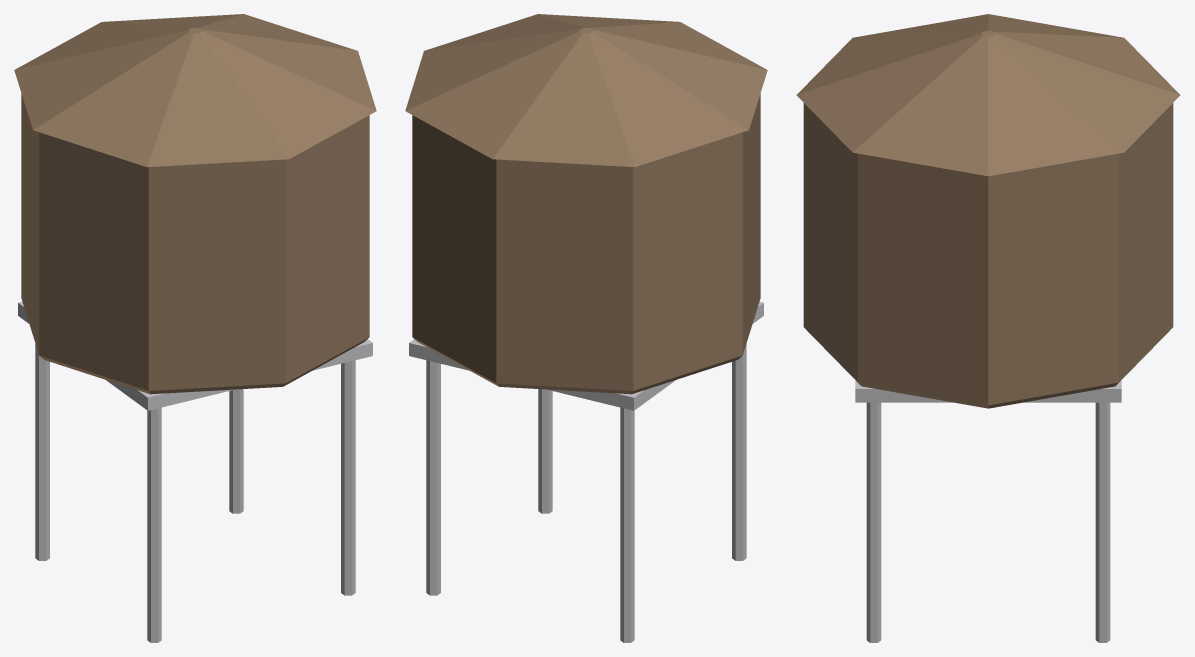
The model's file is roof_watertank_lod1.glb.
3 renders of one model, left to right at view 1: azimuth 30°, elevation 25°; view 2: azimuth 150°, elevation 25°; view 3: azimuth 270°, elevation 25°, orthographic. The views are drawn at different scales.
Parts seen in each view (by area): view 1: roof_watertank; view 2: roof_watertank; view 3: roof_watertank.
Part boxes in pixels (<box>): roof_watertank: <box>14,14,376,642</box>; roof_watertank: <box>405,14,767,642</box>; roof_watertank: <box>796,14,1180,642</box>.
Bounding box in the file's own units: 3.12 × 5 × 3.12.
